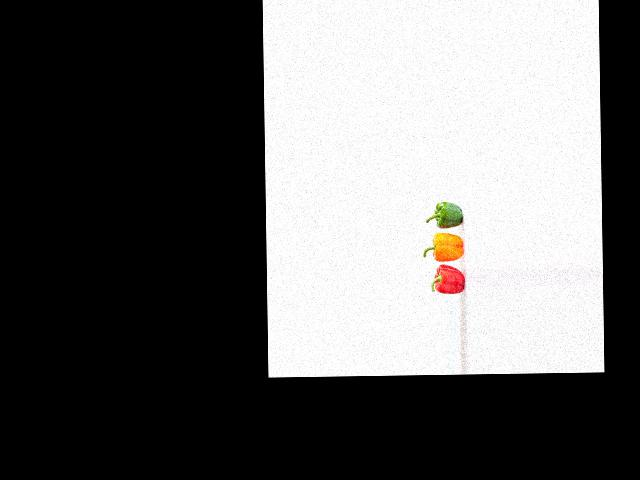bell_pepper: (423, 263, 464, 296)
